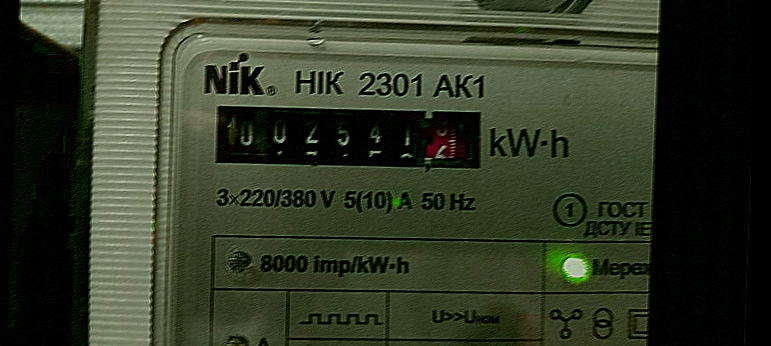0: (270, 115, 290, 149), (239, 120, 257, 149)
1: (398, 117, 415, 150)
2: (301, 115, 323, 150)
4: (367, 117, 385, 148)
5: (335, 118, 352, 151)
6: (432, 142, 449, 164)
screen: (201, 89, 504, 191)
